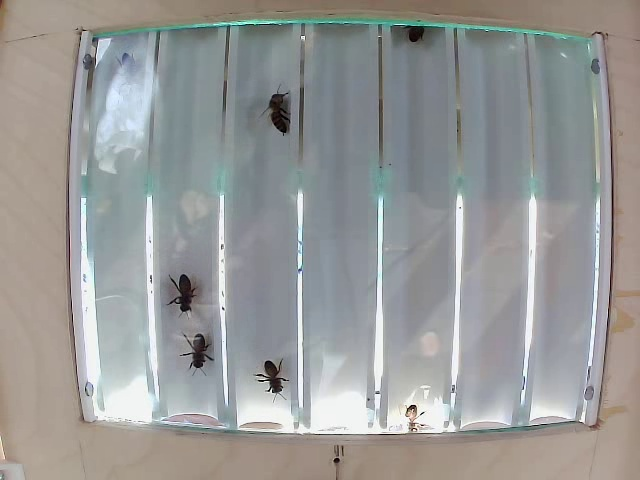bee: (185, 331, 223, 374), (407, 16, 437, 66), (250, 362, 291, 394), (264, 106, 294, 147), (171, 271, 202, 304), (397, 397, 422, 437)
